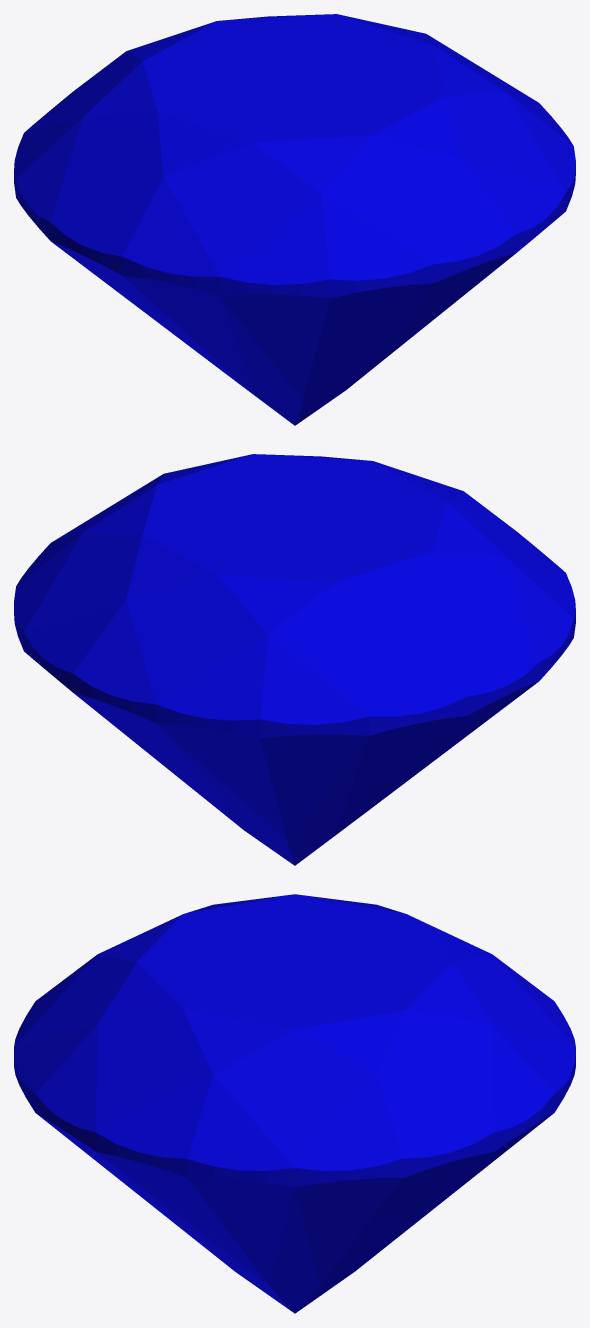
The model's file is Head_No Halo_Round_0.50ct_Diamond.glb.
3 renders of one model, top to bottom at view 1: azimuth 30°, elevation 25°; view 2: azimuth 150°, elevation 25°; view 3: azimuth 270°, elevation 25°, orthographic.
Bounding box in the file's own units: 0.00487 × 0.00331 × 0.0048.
